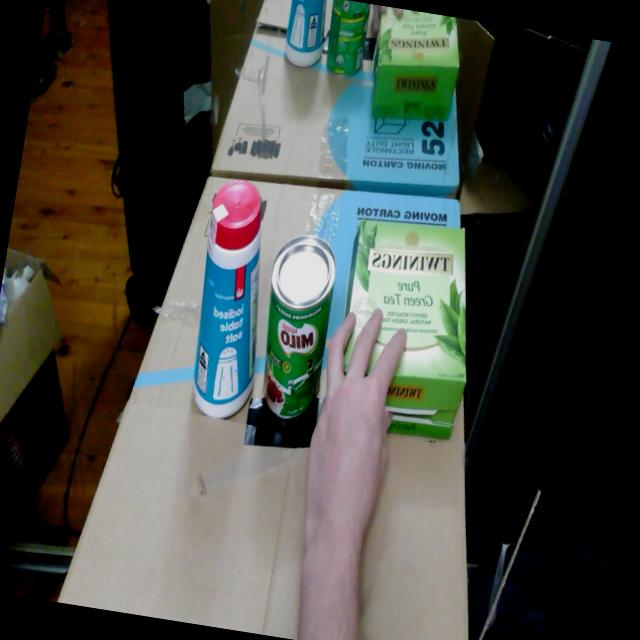nestle_milo_tin: (263, 235, 336, 419)
twinings_greentea_box: (343, 220, 466, 440)
woolworths_salt_bottle: (192, 180, 261, 418)
